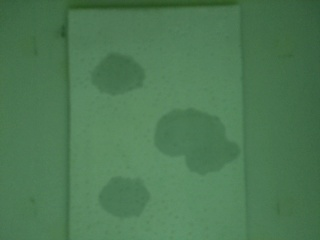Water_detected: (157, 111, 221, 164), (102, 62, 141, 90), (120, 178, 142, 207)
